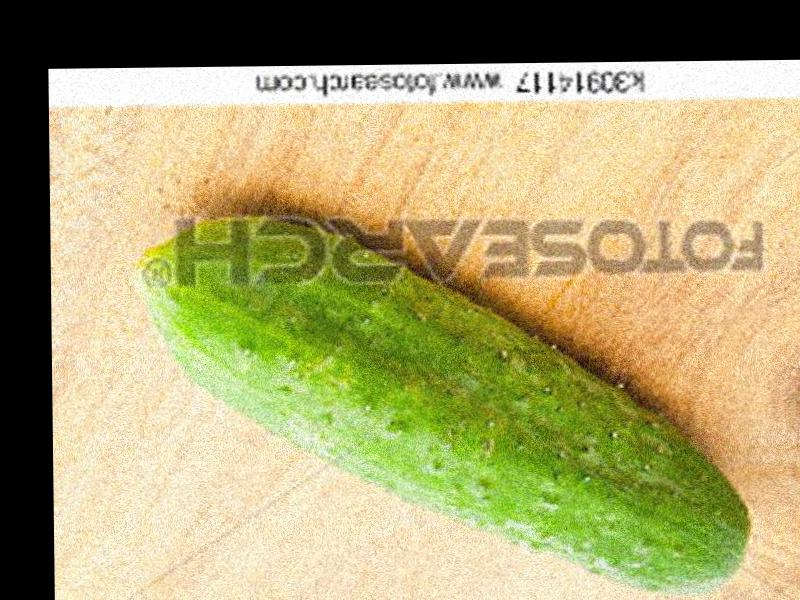Cucumber: (134, 205, 752, 600)
